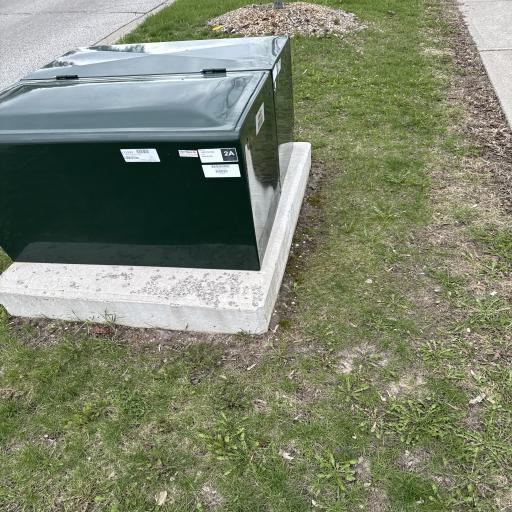Electrical Box: (0, 35, 296, 272)
